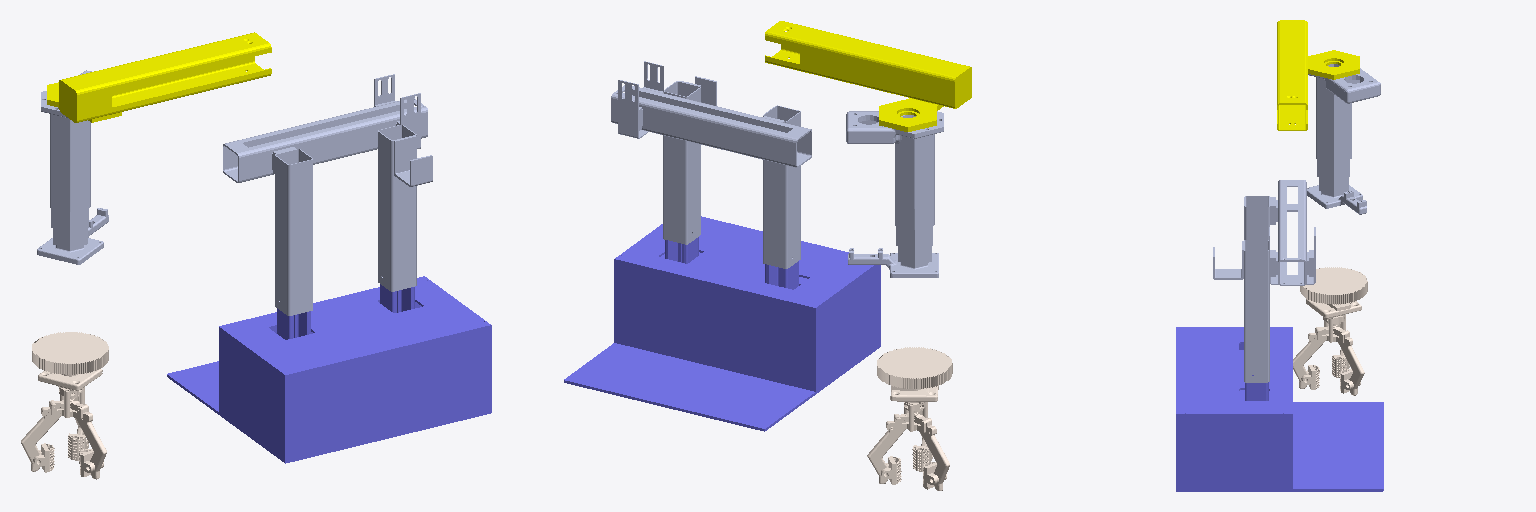
URDF robot description (URDF_v1.SLDASM):
<?xml version="1.0" encoding="utf-8"?>
<!-- This URDF was automatically created by SolidWorks to URDF Exporter! Originally created by [author] ([email redacted]) 
     Commit Version: 1.6.0-4-g7f85cfe  Build Version: 1.6.7995.38578
     For more information, please see http://wiki.ros.org/sw_urdf_exporter -->
<robot
  name="URDF_v1.SLDASM">
  <link
    name="base">
    <inertial>
      <origin
        xyz="0.094649 -0.046556 -0.092252"
        rpy="0 0 0" />
      <mass
        value="5.3282" />
      <inertia
        ixx="0.042002"
        ixy="3.7239E-05"
        ixz="2.5658E-17"
        iyy="0.099788"
        iyz="6.3578E-18"
        izz="0.12213" />
    </inertial>
    <visual>
      <origin
        xyz="0 0 0"
        rpy="0 0 0" />
      <geometry>
        <mesh
          filename="package://sysmap_package/meshes/base.STL" />
      </geometry>
      <material
        name="">
        <color
          rgba="0.50196 0.50196 1 1" />
      </material>
    </visual>
    <collision>
      <origin
        xyz="0 0 0"
        rpy="0 0 0" />
      <geometry>
        <mesh
          filename="package://sysmap_package/meshes/base.STL" />
      </geometry>
    </collision>
  </link>
  <link
    name="gliss_poteaux">
    <inertial>
      <origin
        xyz="0.11166 0.031392 0.43751"
        rpy="0 0 0" />
      <mass
        value="0.5009" />
      <inertia
        ixx="0.0017002"
        ixy="-1.7782E-08"
        ixz="-2.9323E-19"
        iyy="0.0036788"
        iyz="-2.3225E-06"
        izz="0.0024273" />
    </inertial>
    <visual>
      <origin
        xyz="0 0 0"
        rpy="0 0 0" />
      <geometry>
        <mesh
          filename="package://sysmap_package/meshes/gliss_poteaux.STL" />
      </geometry>
      <material
        name="">
        <color
          rgba="0.79216 0.81961 0.93333 1" />
      </material>
    </visual>
    <collision>
      <origin
        xyz="0 0 0"
        rpy="0 0 0" />
      <geometry>
        <mesh
          filename="package://sysmap_package/meshes/gliss_poteaux.STL" />
      </geometry>
    </collision>
  </link>
  <joint
    name="gliss_poteaux"
    type="prismatic">
    <origin
      xyz="0 0 0"
      rpy="0 0 0" />
    <parent
      link="base" />
    <child
      link="gliss_poteaux" />
    <axis
      xyz="0 0 -1" />
    <limit
      lower="0"
      upper="0"
      effort="0"
      velocity="0" />
  </joint>
  <link
    name="gliss_bras">
    <inertial>
      <origin
        xyz="0.5705 -0.02058 -0.011047"
        rpy="0 0 0" />
      <mass
        value="0.33517" />
      <inertia
        ixx="0.00042422"
        ixy="-5.1329E-06"
        ixz="-1.9818E-18"
        iyy="0.002735"
        iyz="-1.4414E-07"
        izz="0.0028909" />
    </inertial>
    <visual>
      <origin
        xyz="0 0 0"
        rpy="0 0 0" />
      <geometry>
        <mesh
          filename="package://sysmap_package/meshes/gliss_bras.STL" />
      </geometry>
      <material
        name="">
        <color
          rgba="1 1 0 1" />
      </material>
    </visual>
    <collision>
      <origin
        xyz="0 0 0"
        rpy="0 0 0" />
      <geometry>
        <mesh
          filename="package://sysmap_package/meshes/gliss_bras.STL" />
      </geometry>
    </collision>
  </link>
  <joint
    name="gliss_bras"
    type="prismatic">
    <origin
      xyz="0.293424939554273 0.0679999999999994 0.485545508212099"
      rpy="0 0 -3.14159265358979" />
    <parent
      link="gliss_poteaux" />
    <child
      link="gliss_bras" />
    <axis
      xyz="-1 0 0" />
    <limit
      lower="0"
      upper="0" 
      effort="0"
      velocity="0" />
  </joint>
  <link
    name="verrin">
    <inertial>
      <origin
        xyz="-0.012557 0.0072673 0.19071"
        rpy="0 0 0" />
      <mass
        value="0.66179" />
      <inertia
        ixx="0.0019699"
        ixy="0.00020748"
        ixz="-0.00015373"
        iyy="0.0022107"
        iyz="8.8756E-05"
        izz="0.0011449" />
    </inertial>
    <visual>
      <origin
        xyz="0 0 0"
        rpy="0 0 0" />
      <geometry>
        <mesh
          filename="package://sysmap_package/meshes/verrin.STL" />
      </geometry>
      <material
        name="">
        <color
          rgba="0.79216 0.81961 0.93333 1" />
      </material>
    </visual>
    <collision>
      <origin
        xyz="0 0 0"
        rpy="0 0 0" />
      <geometry>
        <mesh
          filename="package://sysmap_package/meshes/verrin.STL" />
      </geometry>
    </collision>
  </link>
  <joint
    name="verrin"
    type="prismatic">
    <origin
      xyz="0.642132486540519 -0.0799999999999959 -0.0299999999999994"
      rpy="3.14159265358979 0 0" />
    <parent
      link="gliss_bras" />
    <child
      link="verrin" />
    <axis
      xyz="0 0 1" />
    <limit
      lower="0"
      upper="0"
      effort="0"
      velocity="0" />
  </joint>
  <link
    name="rot_pince">
    <inertial>
      <origin
        xyz="0.00029402 4.3448E-05 0.06931"
        rpy="0 0 0" />
      <mass
        value="0.545" />
      <inertia
        ixx="0.00039633"
        ixy="5.316E-07"
        ixz="2.4573E-07"
        iyy="0.00039731"
        iyz="-4.176E-07"
        izz="0.00063837" />
    </inertial>
    <visual>
      <origin
        xyz="0 0 0"
        rpy="0 0 0" />
      <geometry>
        <mesh
          filename="package://sysmap_package/meshes/rot_pince.STL" />
      </geometry>
      <material
        name="">
        <color
          rgba="1 0.94902 0.9098 1" />
      </material>
    </visual>
    <collision>
      <origin
        xyz="0 0 0"
        rpy="0 0 0" />
      <geometry>
        <mesh
          filename="package://sysmap_package/meshes/rot_pince.STL" />
      </geometry>
    </collision>
  </link>
  <joint
    name="rot_pince"
    type="revolute">
    <origin
      xyz="-2.88675134791916E-05 4.99999999660494E-05 0.467189113302821"
      rpy="0 0 3.14159265358979" />
    <parent
      link="verrin" />
    <child
      link="rot_pince" />
    <axis
      xyz="0 0 1" />
    <limit
      lower="0"
      upper="0"
      effort="0"
      velocity="0" />
  </joint>
</robot>

--- Facts derived from the render (not from the file) ---
3 views of the same robot in one strip: view 1: azimuth 30°, elevation 25°; view 2: azimuth 150°, elevation 25°; view 3: azimuth 270°, elevation 25° (orthographic).
Robot: URDF_v1.SLDASM — 5 links, 4 joints (1 revolute, 3 prismatic); root link base; default pose: all joints at 0.
Visible links, largest first — view 1: base, gliss_poteaux, gliss_bras, rot_pince, verrin; view 2: base, gliss_poteaux, gliss_bras, verrin, rot_pince; view 3: base, gliss_poteaux, verrin, rot_pince, gliss_bras.
Link boxes in pixels (left/top/right/bottom): base: left=167, top=276, right=491, bottom=463; gliss_poteaux: left=223, top=74, right=432, bottom=315; gliss_bras: left=47, top=32, right=271, bottom=122; rot_pince: left=21, top=332, right=108, bottom=479; verrin: left=37, top=70, right=108, bottom=264; base: left=564, top=216, right=880, bottom=431; gliss_poteaux: left=611, top=61, right=811, bottom=268; gliss_bras: left=765, top=21, right=971, bottom=131; verrin: left=846, top=111, right=943, bottom=277; rot_pince: left=867, top=347, right=952, bottom=490; base: left=1176, top=327, right=1383, bottom=491; gliss_poteaux: left=1213, top=180, right=1315, bottom=382; verrin: left=1307, top=64, right=1380, bottom=214; rot_pince: left=1293, top=267, right=1367, bottom=395; gliss_bras: left=1277, top=20, right=1359, bottom=130.
Size in the robot's own frame: 0.7249 by 0.4 by 0.7539 metres.
Meshes: 5 distinct files referenced, 5 mesh visuals loaded (5 binary STL).